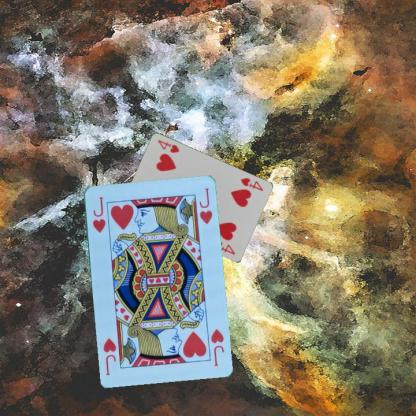4h: (238, 175, 264, 192)
Jh: (208, 326, 225, 367), (90, 194, 106, 234)
